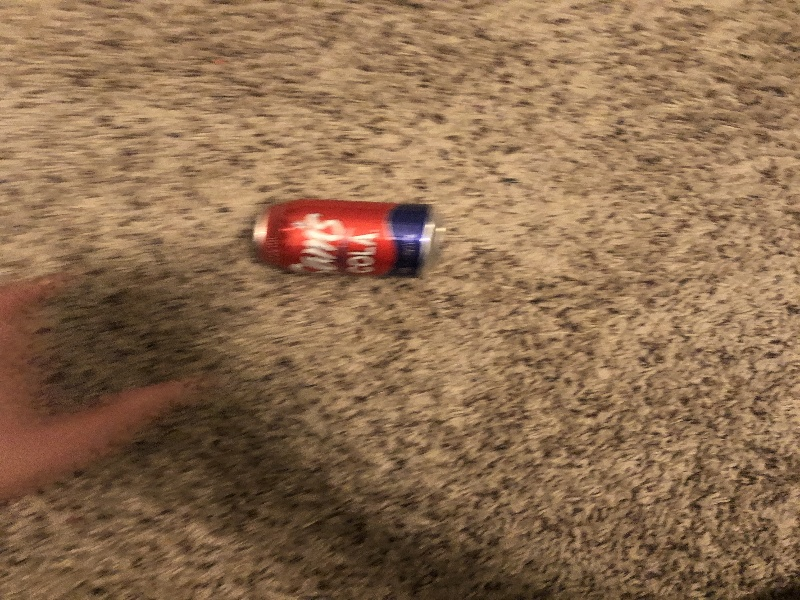metal: (248, 191, 441, 286)
